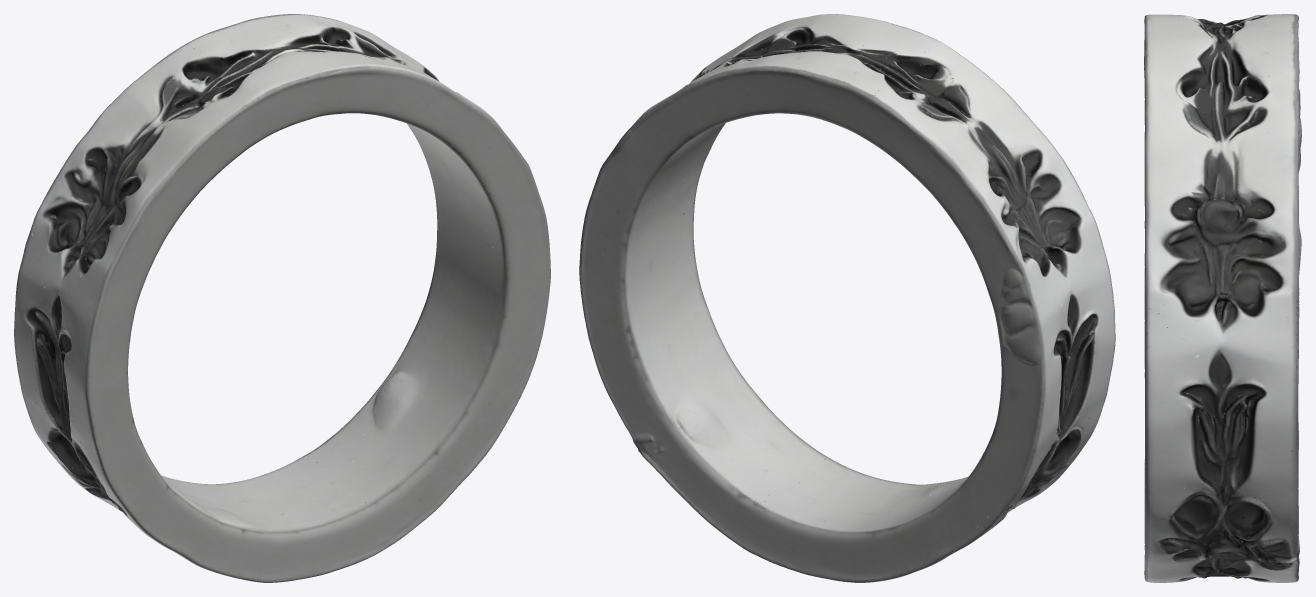
File: nhan3D1.glb
The picture shows the model from 3 angles, left to right: view 1: azimuth 30°, elevation 25°; view 2: azimuth 150°, elevation 25°; view 3: azimuth 270°, elevation 25°; orthographic projection. The views are drawn at different scales.
Size of the model in its own units: 1.95 by 2 by 0.5493.
Materials: 1 (1 with a texture image).
